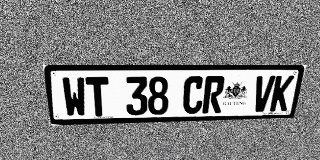3: (126, 77, 148, 116)
8: (148, 76, 170, 115)
C: (182, 76, 205, 114)
K: (269, 76, 295, 112)
R: (202, 76, 225, 113)
T: (85, 77, 110, 117)
V: (251, 76, 276, 112)
W: (61, 77, 87, 117)
